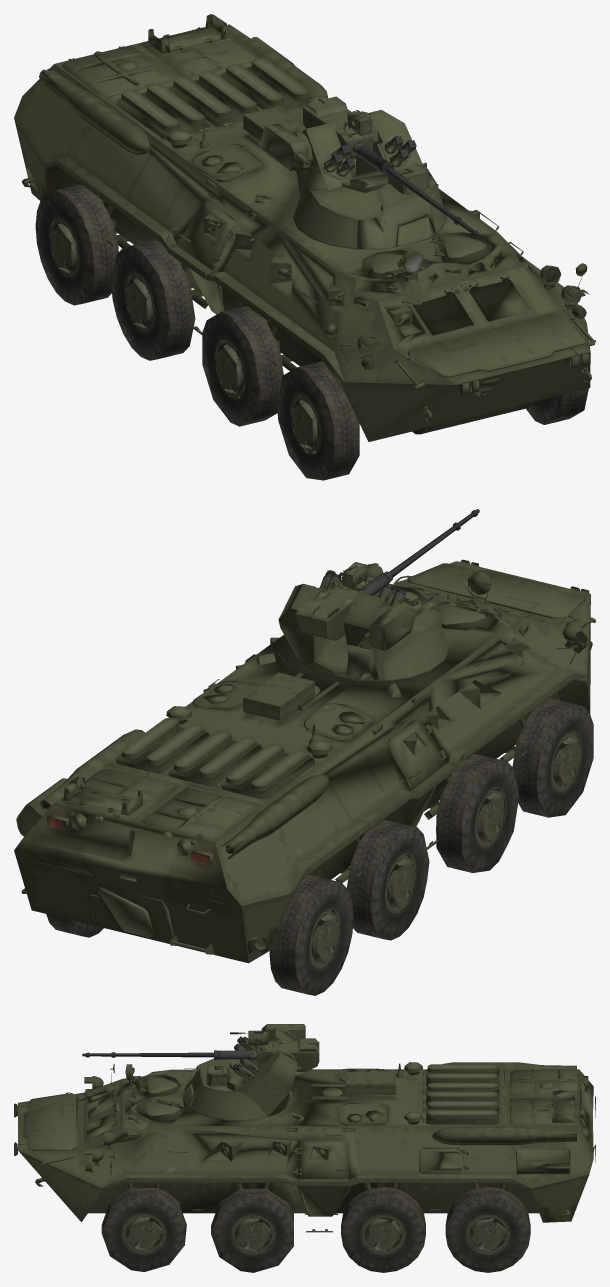
File: ground-btr82a.glb
3 renders of one model, top to bottom at view 1: azimuth 30°, elevation 25°; view 2: azimuth 150°, elevation 25°; view 3: azimuth 270°, elevation 25°, orthographic. The views are drawn at different scales.
Visible parts, largest first — view 1: btr82a grounded vehicle LOD; view 2: btr82a grounded vehicle LOD; view 3: btr82a grounded vehicle LOD.
Boxes of the visible parts, x1=… form: btr82a grounded vehicle LOD: x1=14, y1=14, x2=595, y2=480; btr82a grounded vehicle LOD: x1=14, y1=509, x2=595, y2=995; btr82a grounded vehicle LOD: x1=14, y1=1024, x2=595, y2=1272.
Size of the model in its own units: 2.91 by 2.87 by 7.69.
Materials: 4 (4 with a texture image).
